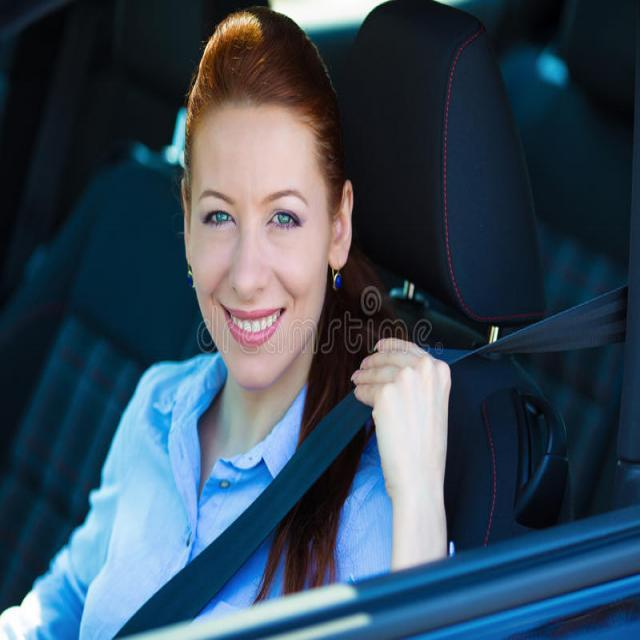seatbelt: (108, 290, 636, 636)
